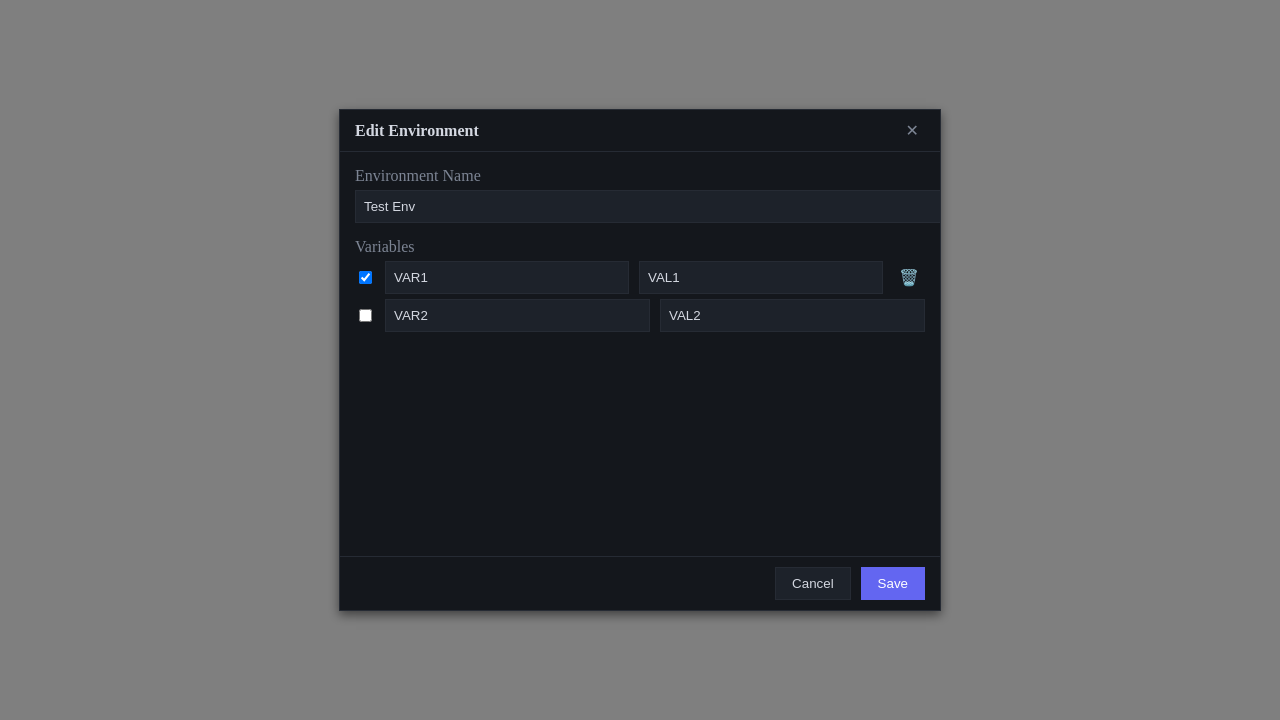
EnvironmentModal › adds a new variable row when last row is edited
This screenshot has width=1280, height=720.
Replace the text in the 5th field showing "VAL2" with "VAL2_MODIFIED": (792, 316) top-left (660, 299), bottom-right (925, 332)
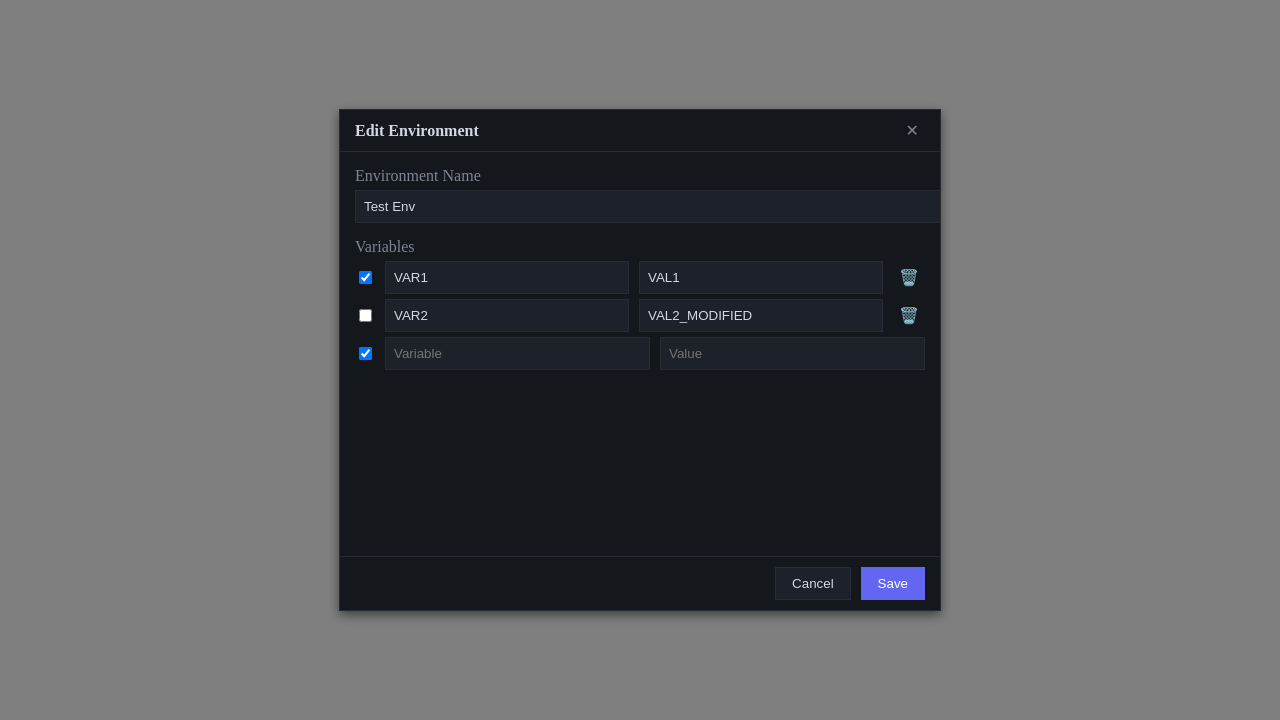
Expected: the number of fields with placeholder "Value" is 3, top-left (639, 261), bottom-right (883, 294); top-left (639, 299), bottom-right (883, 332); top-left (660, 337), bottom-right (925, 370)
